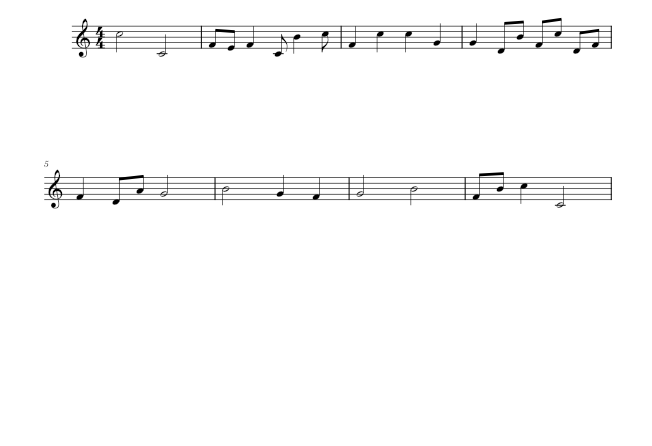Treble Clef: (71, 12, 92, 62), (45, 169, 66, 211)
